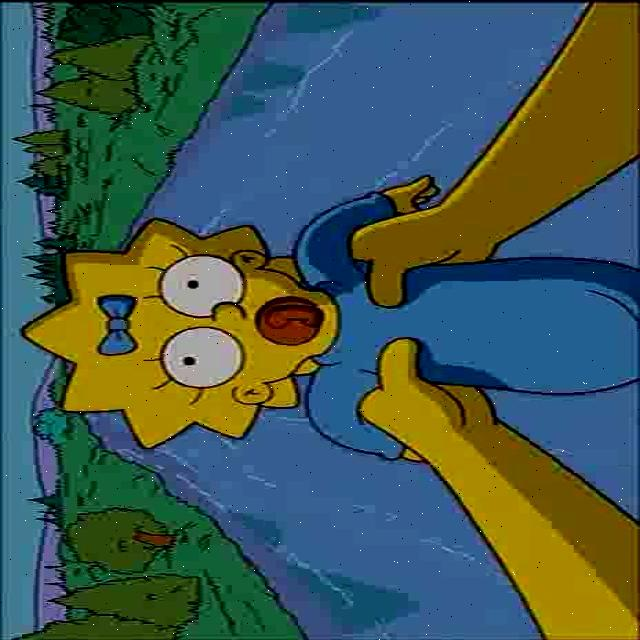Maggie Simpson: (18, 215, 342, 450)
